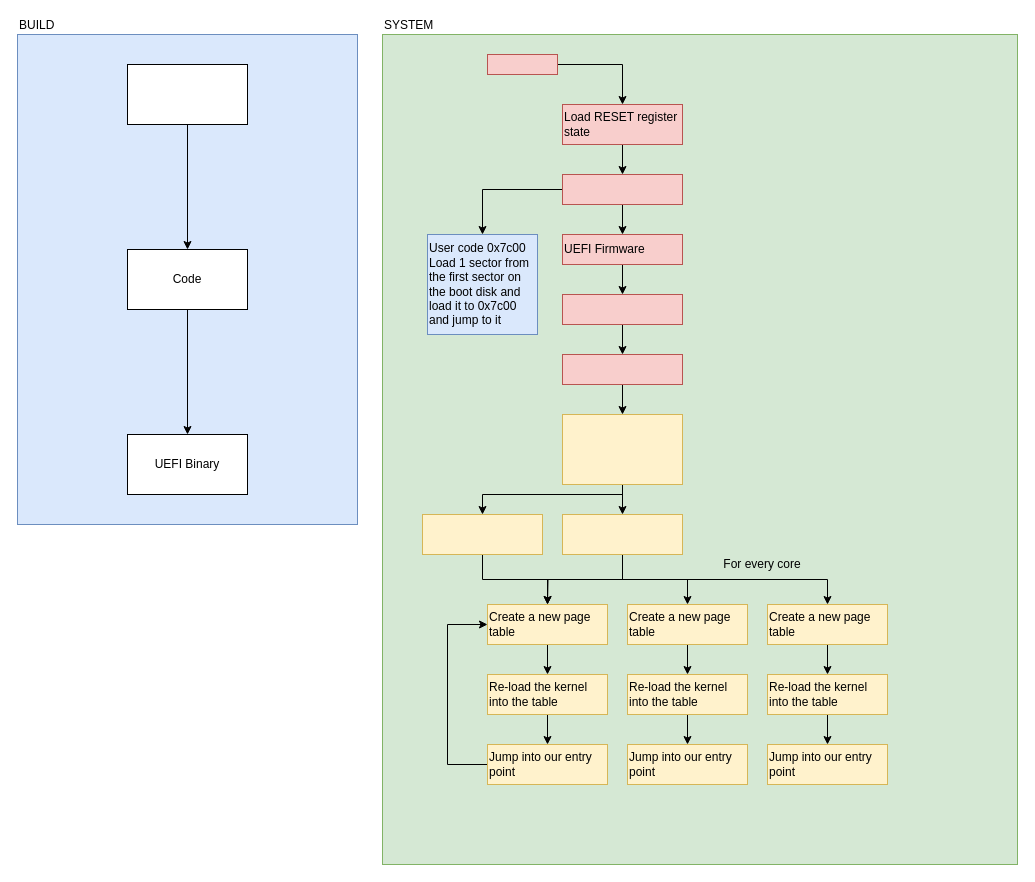
Some shapes in this 1035 by 882 pixel diagram are drawn without their labels. Here are the shapes that lost their labels. From the top down, the centre of each, then its label:
At pixel 522 64: "RESET!".
At pixel 187 94: "Rust CODE".
At pixel 622 189: "BIOS".
At pixel 622 309: "Download PE".
At pixel 622 369: "Load PE".
At pixel 622 449: "PE entry point as 64bit long mode with a small identity map".
At pixel 482 534: "Use UEFI to get a memory map".
At pixel 622 534: "UEFI code to display to stdout".
